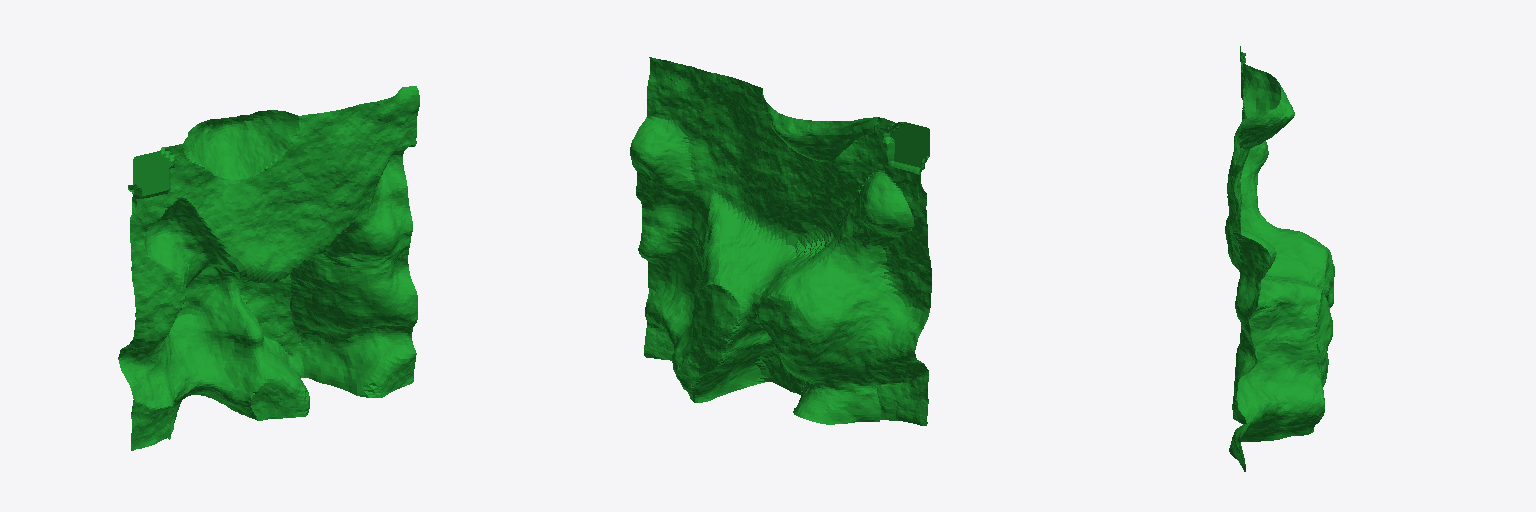
Rendered from procedural ground.obj.
The picture shows the model from 3 angles: view 1: azimuth 30°, elevation 25°; view 2: azimuth 150°, elevation 25°; view 3: azimuth 270°, elevation 25°; orthographic projection.
Parts seen in each view (by area): view 1: ground_Plane; view 2: ground_Plane; view 3: ground_Plane.
Boxes of the visible parts, x1=… form: ground_Plane: x1=118, y1=86, x2=419, y2=450; ground_Plane: x1=630, y1=57, x2=931, y2=425; ground_Plane: x1=1225, y1=46, x2=1334, y2=471.
Bounding box in the file's own units: 64.97 × 65.77 × 21.61.